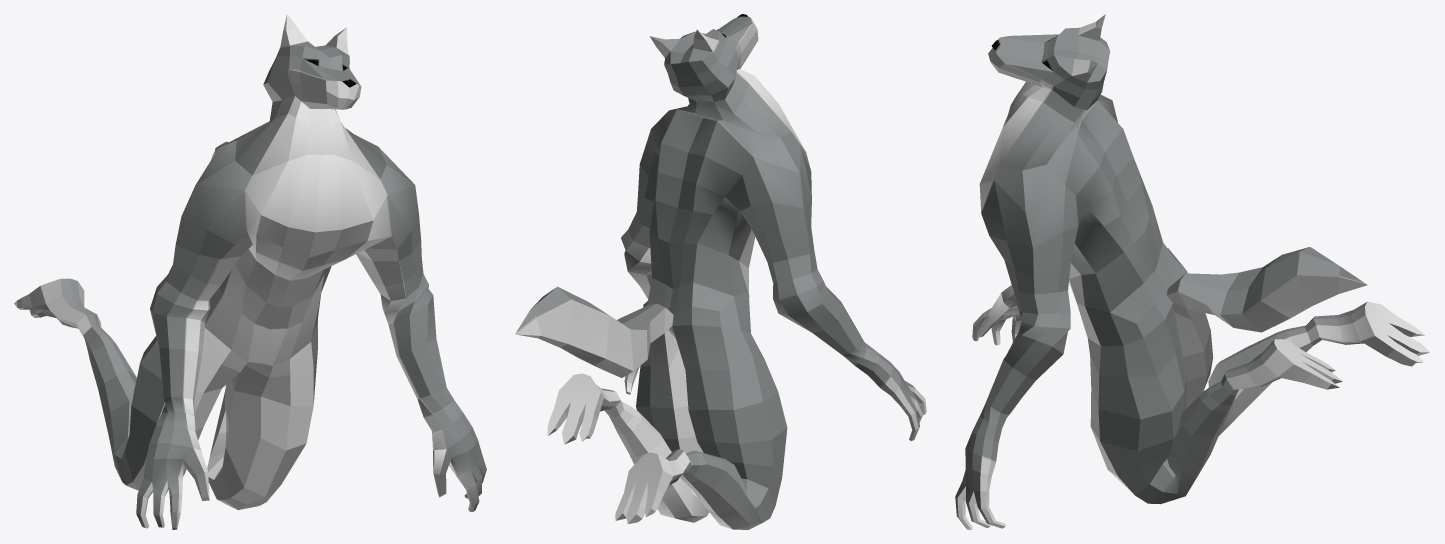
The model's file is WolfDead(54).obj.
3 views of the same model, side by side, from view 1: azimuth 30°, elevation 25°; view 2: azimuth 150°, elevation 25°; view 3: azimuth 270°, elevation 25° (orthographic). The views are drawn at different scales.
Visible parts, largest first — view 1: Box001; view 2: Box001; view 3: Box001.
Boxes of the visible parts, x1,y1,x2,y2 form: Box001: (14,14,486,529); Box001: (515,14,926,529); Box001: (955,14,1430,529).
Size of the model in its own units: 81.26 by 119 by 104.
